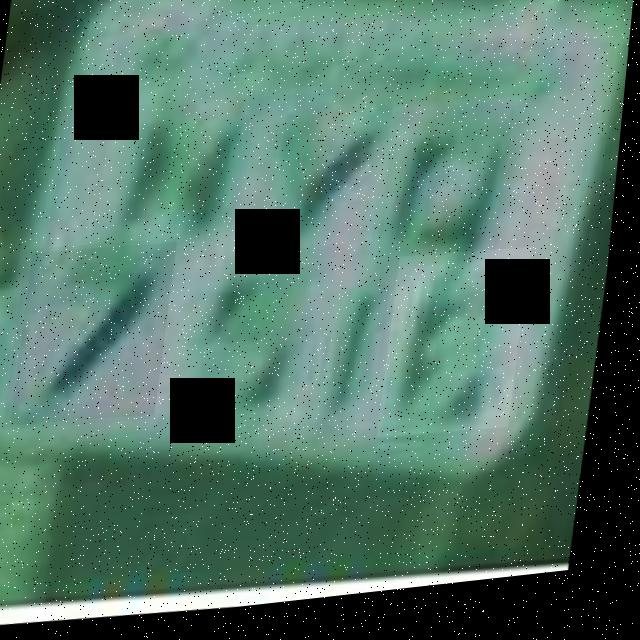1: (11, 237, 183, 436), (307, 267, 409, 442)
3: (385, 254, 538, 452)
7: (18, 241, 182, 432)
D: (380, 101, 519, 283)
N: (95, 73, 272, 284)
Y: (243, 91, 397, 276)
